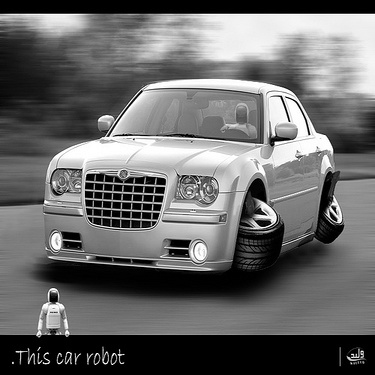car: (29, 70, 339, 285)
